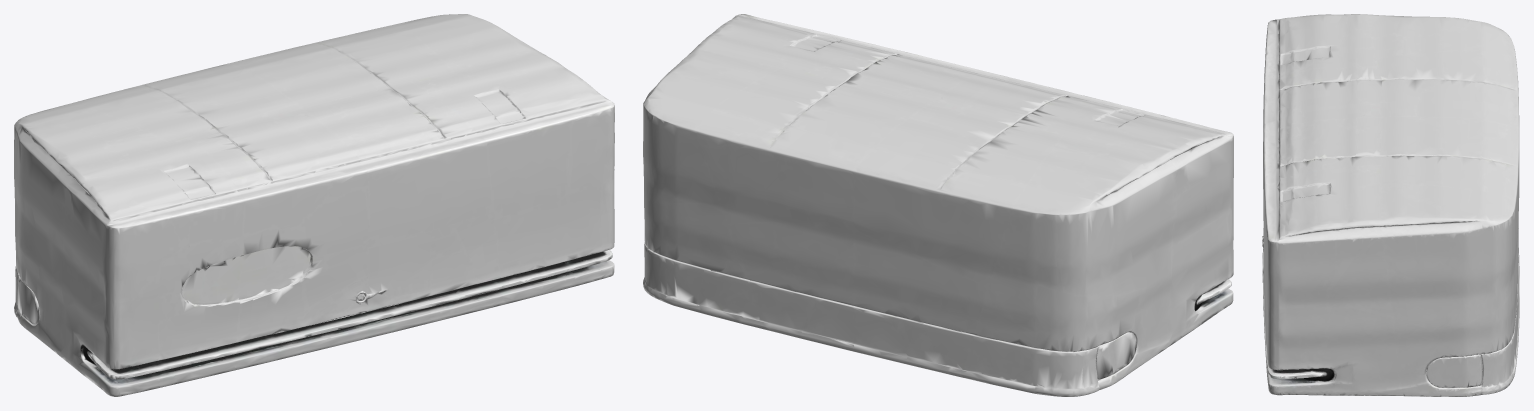
Rendered from IDC12M2.glb.
3 renders of one model, left to right at view 1: azimuth 30°, elevation 25°; view 2: azimuth 150°, elevation 25°; view 3: azimuth 270°, elevation 25°, orthographic. The views are drawn at different scales.
Parts seen in each view (by area): view 1: tripo_node_7b970362-5360-433c-a0b1-4599095491a6; view 2: tripo_node_7b970362-5360-433c-a0b1-4599095491a6; view 3: tripo_node_7b970362-5360-433c-a0b1-4599095491a6.
Boxes of the visible parts, box(x1,y1,x2,y2) form: tripo_node_7b970362-5360-433c-a0b1-4599095491a6: box(14, 14, 614, 396); tripo_node_7b970362-5360-433c-a0b1-4599095491a6: box(643, 14, 1233, 396); tripo_node_7b970362-5360-433c-a0b1-4599095491a6: box(1262, 14, 1519, 396).
Size of the model in its own units: 0.8264 by 0.3069 by 0.4019.
1 material, 1 textured.
